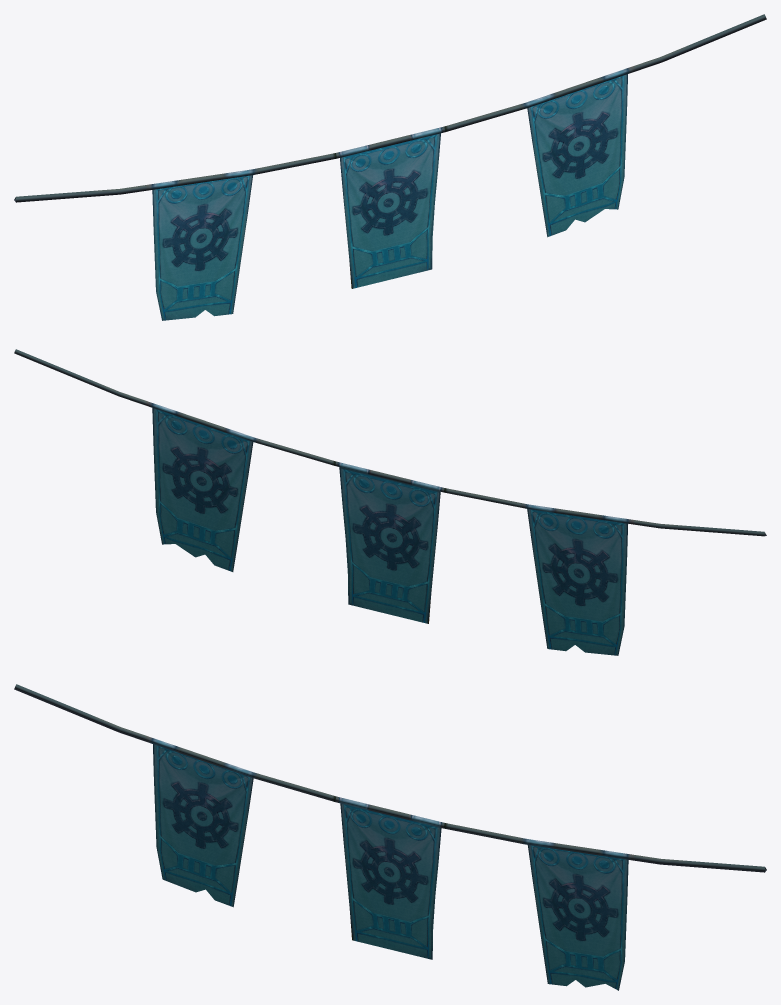
Rendered from SV_AFT_desert_lanbu_0.FBX.
3 renders of one model, top to bottom at view 1: azimuth 30°, elevation 25°; view 2: azimuth 150°, elevation 25°; view 3: azimuth 330°, elevation 25°, orthographic.
Visible parts, largest first — view 1: SV_AFT_desert_lanbu_0; view 2: SV_AFT_desert_lanbu_0; view 3: SV_AFT_desert_lanbu_0.
Part boxes in pixels (<box>): SV_AFT_desert_lanbu_0: <box>14,14,766,320</box>; SV_AFT_desert_lanbu_0: <box>14,349,766,655</box>; SV_AFT_desert_lanbu_0: <box>14,684,766,990</box>.
Size of the model in its own units: 14.56 by 3.23 by 0.0748.
